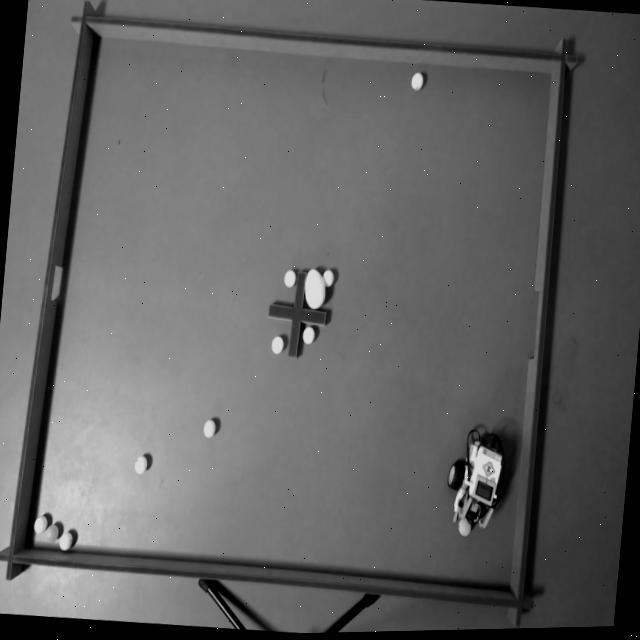boundaries: (0, 0, 577, 630), (24, 36, 549, 591)
cross: (266, 270, 326, 359)
egg: (302, 268, 327, 312)
large_goal: (526, 283, 549, 368)
orange_ball: (455, 516, 472, 539), (43, 523, 59, 543)
robot: (440, 426, 508, 544)
small_goal: (41, 259, 62, 304)
white_ball: (132, 453, 148, 475), (408, 72, 424, 94), (56, 530, 72, 551), (299, 326, 315, 346), (201, 418, 216, 439), (281, 268, 296, 289), (31, 514, 47, 533), (319, 269, 334, 289), (269, 335, 283, 355)
